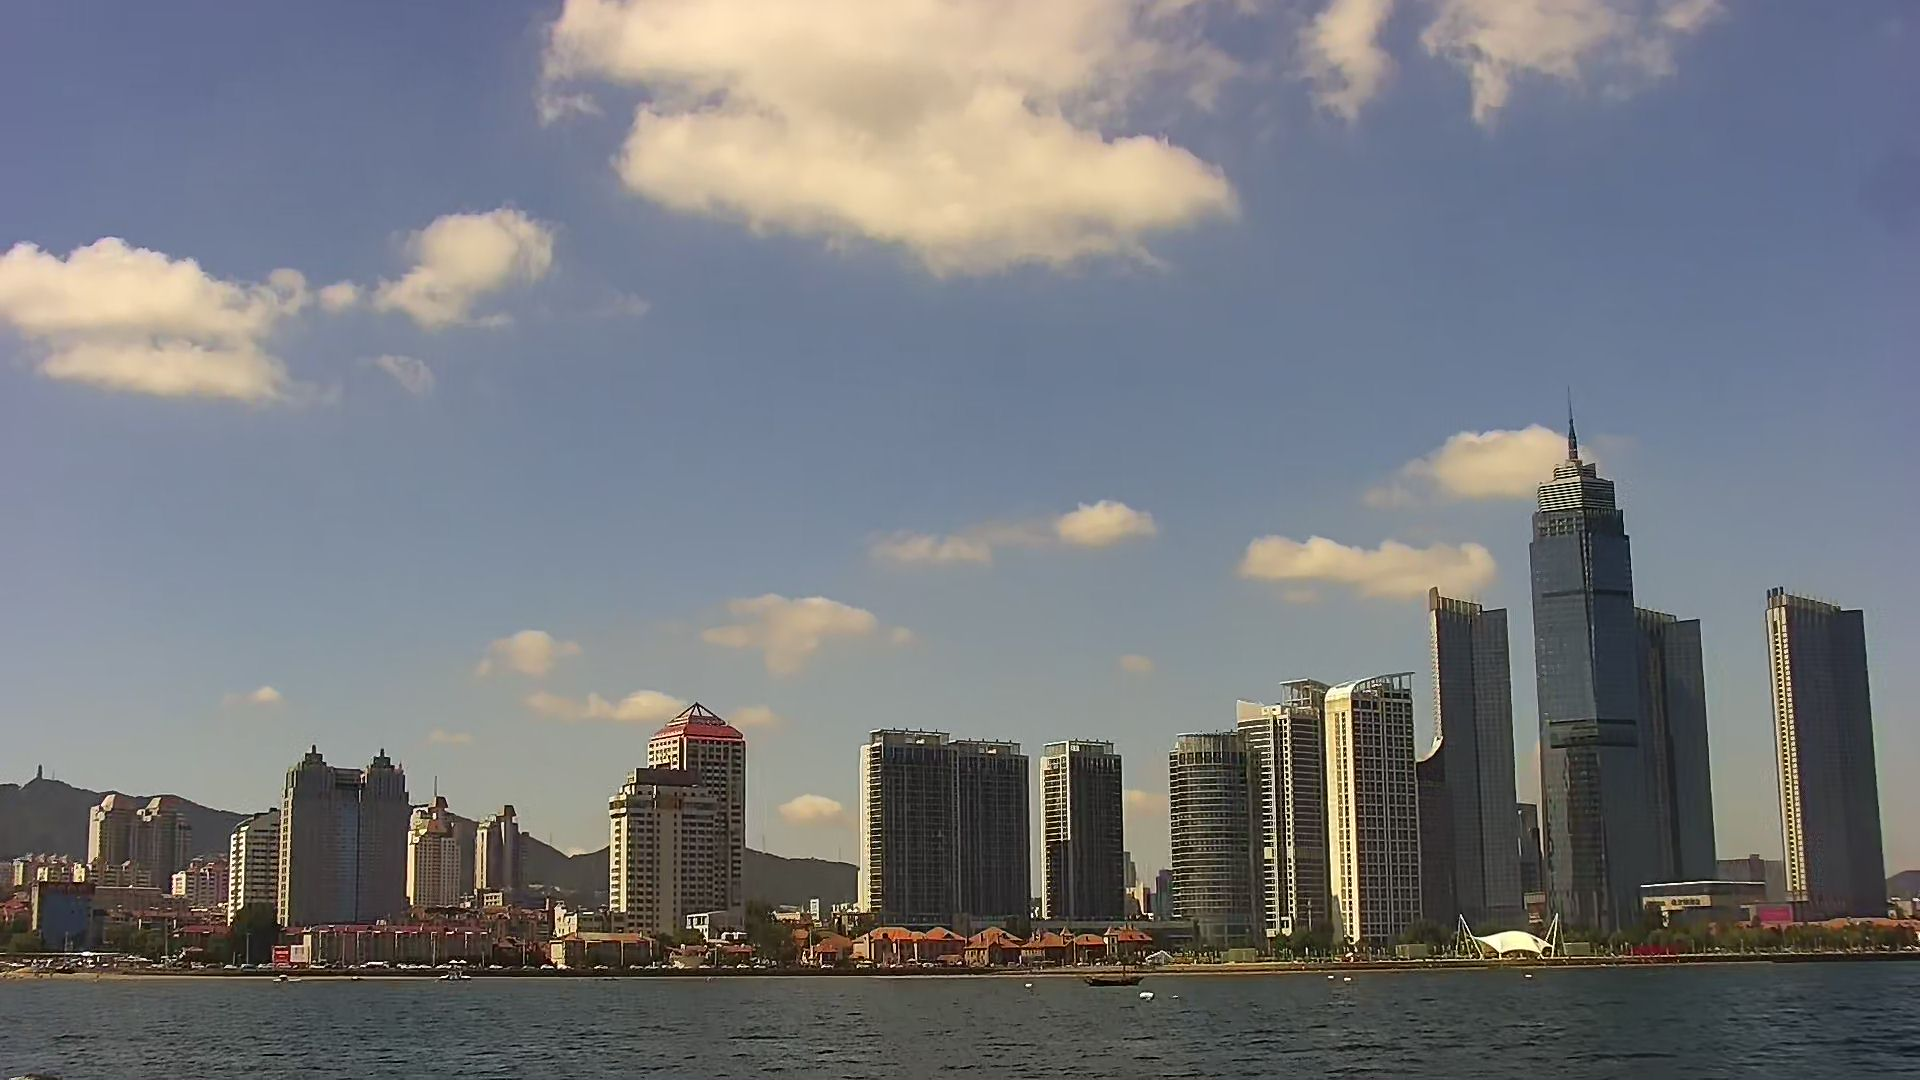boat: (1080, 969, 1145, 985)
rubbish: (1139, 994, 1158, 1005)
